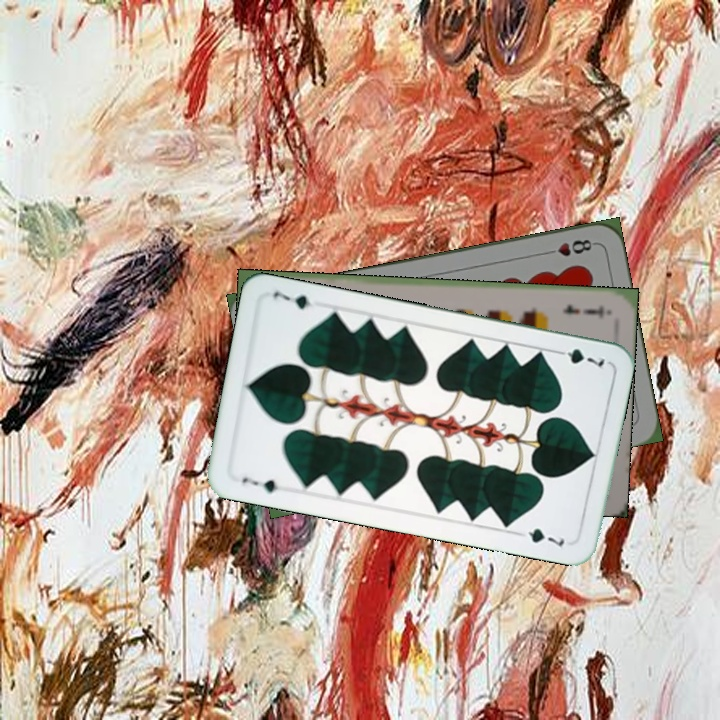E7: (559, 300, 607, 321)
G7: (550, 344, 607, 369), (238, 472, 281, 496)
H8: (539, 235, 598, 259)
